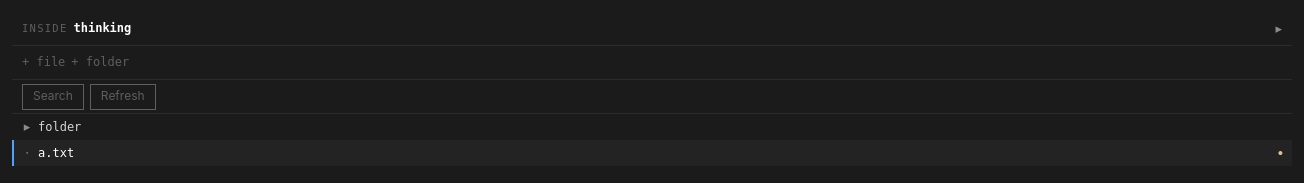
Test: disables actions while locked and removes missing scope targets from display
Expected: the button "+ file" is disabled, [22,54,65,71]
Expected: the button "+ folder" is disabled, [71,54,129,71]
Click the button "· a.txt •": (56, 153) [22,140,1284,166]
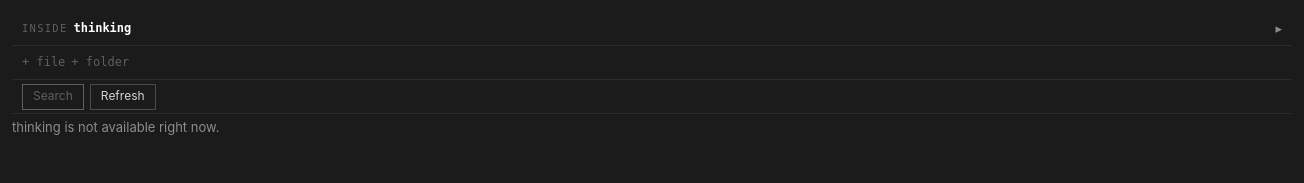
Expected: the button "+ file" is disabled, [22,54,65,71]
Expected: the button "Refresh" is enabled, [90,84,156,110]
